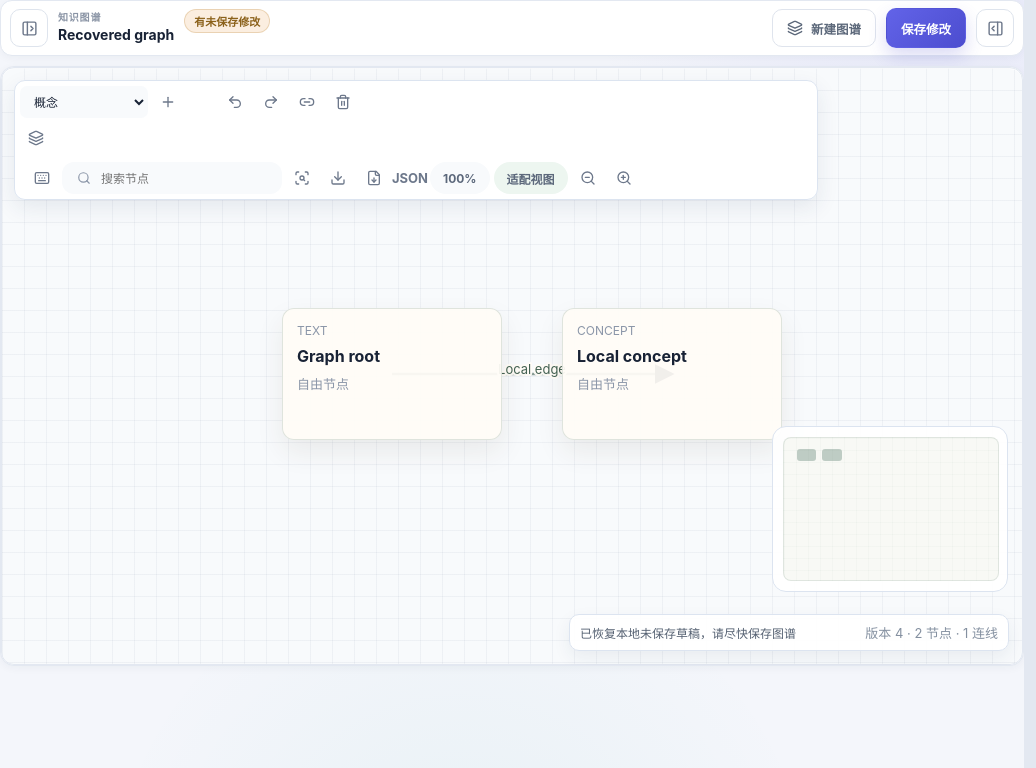
Test: GraphWorkspacePage conflict dependency guard › blocks applying marked resolutions when they would leave a dangling local edge
The width and height of the screenshot is (1036, 768).
Expected: the text named "图谱保存状态：有未保存修改" is shown, [184,9,270,33]
Click the button "保存修改".
click(926, 28)  # box [886,8,966,48]
(page scrolled)
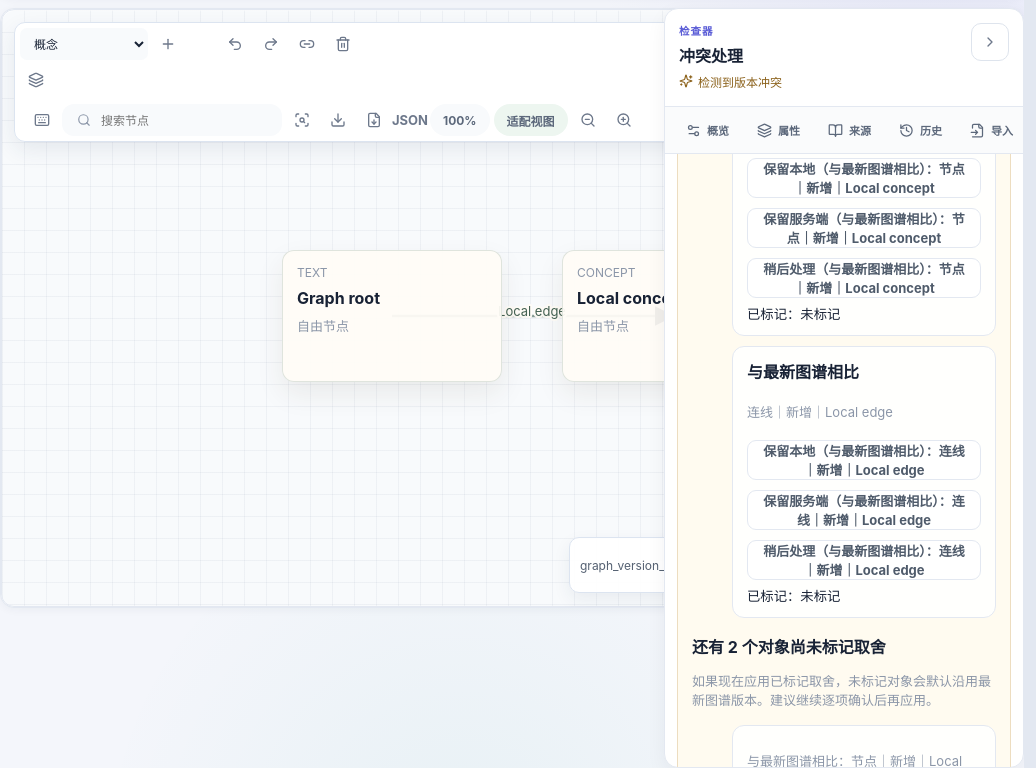
Now the list item "连线｜新增｜Local edge" is shown, box [747,404,893,420]
Click the button "保留本地（与最新图谱相比）：连线｜新增｜Local edge".
click(864, 460)  # box [747,440,981,480]
(page scrolled)
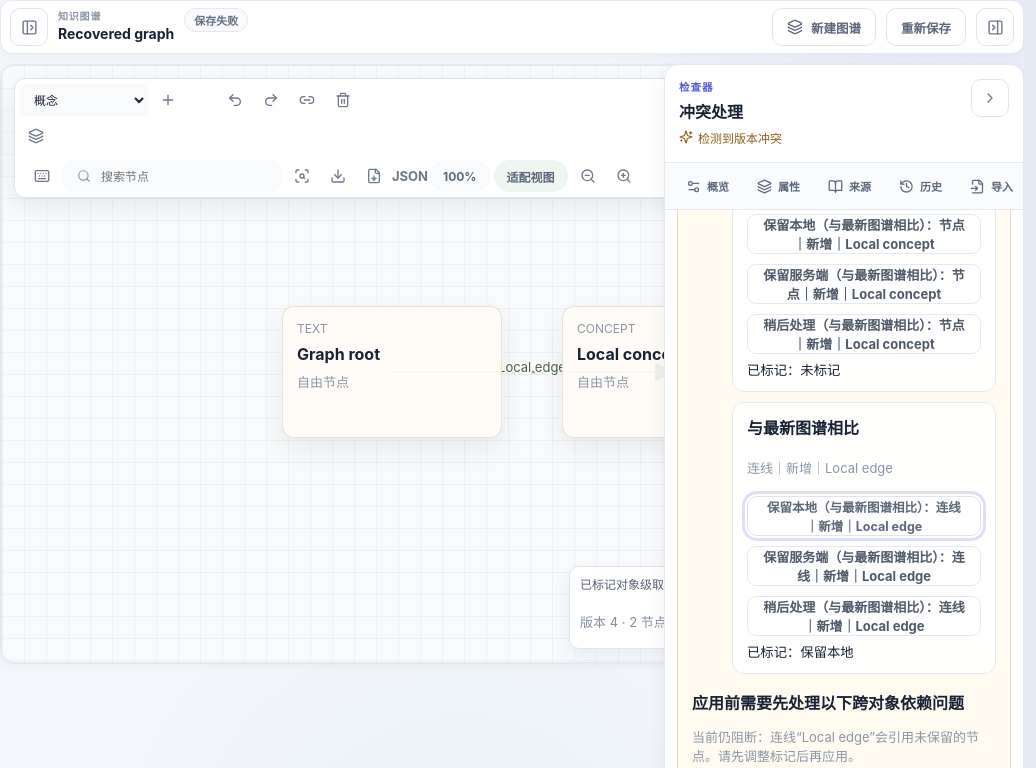
Now the text named "图谱保存状态：保存失败" is shown, box [184,8,248,32]
Now the text "当前仍阻断：连线“Local edge”会引用未保留的节点。请先调整标记后再应用。" is shown, box [692,727,996,765]
